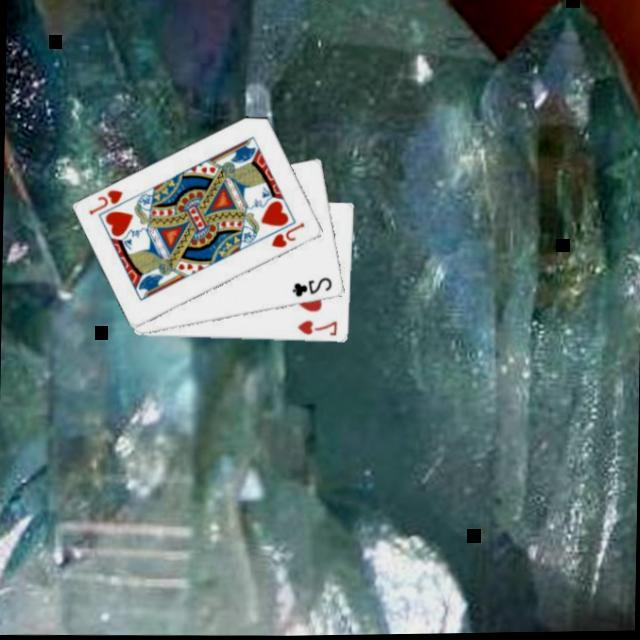2C: (290, 272, 336, 300)
7H: (295, 316, 341, 338)
JH: (86, 184, 126, 217), (268, 218, 309, 250)
